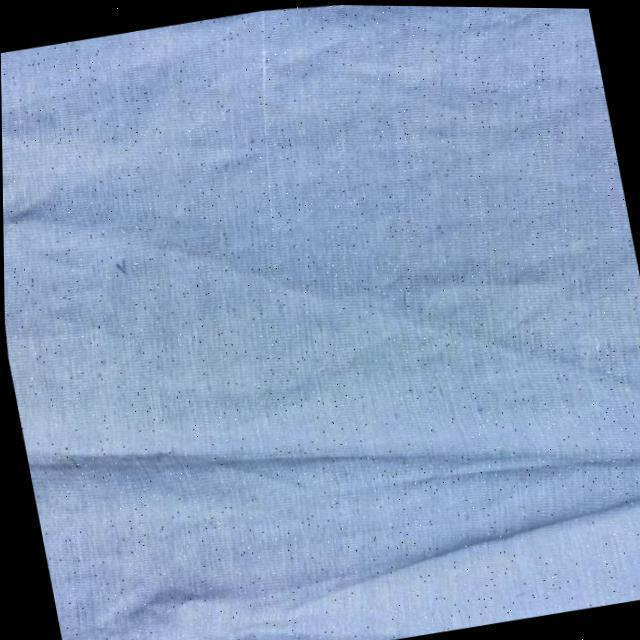broken_yarn: (25, 439, 542, 477)
pulled_or_thick_thread: (259, 9, 276, 233)
